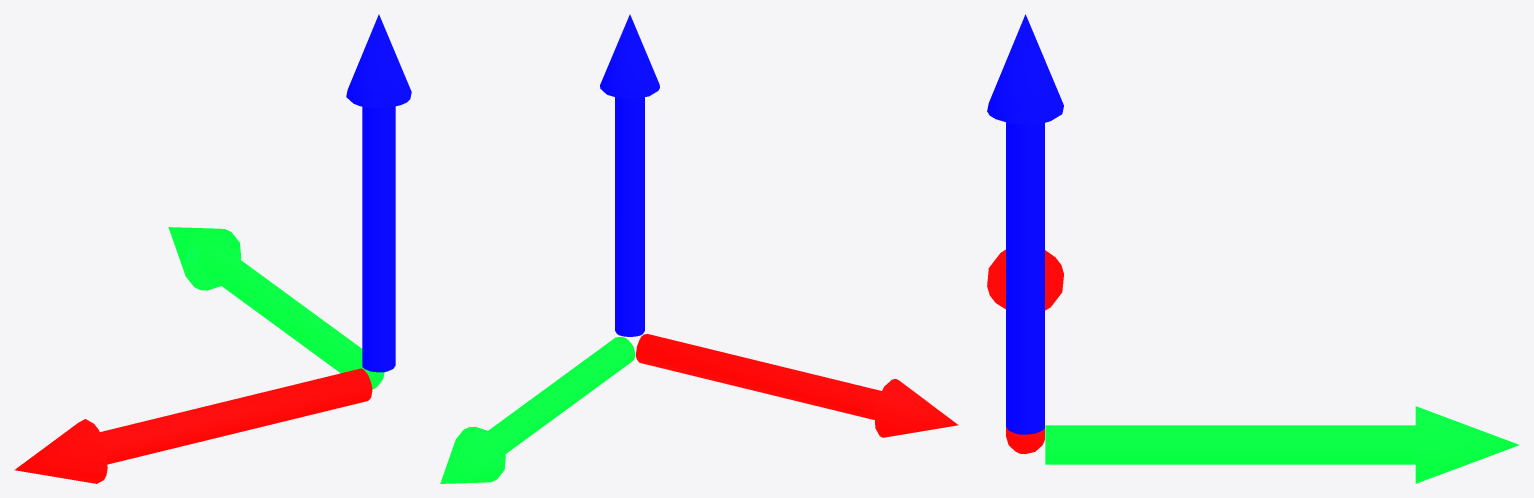
Rendered from unity-axis.fbx.
3 views of the same model, side by side, from view 1: azimuth 30°, elevation 25°; view 2: azimuth 150°, elevation 25°; view 3: azimuth 270°, elevation 25° (orthographic). The views are drawn at different scales.
Visible parts, largest first — view 1: Unity-axis; view 2: Unity-axis; view 3: Unity-axis.
Boxes of the visible parts, <box> form: Unity-axis: <box>14,14,411,483</box>; Unity-axis: <box>440,14,958,483</box>; Unity-axis: <box>987,14,1519,483</box>.
Size of the model in its own units: 209 by 202 by 209.
